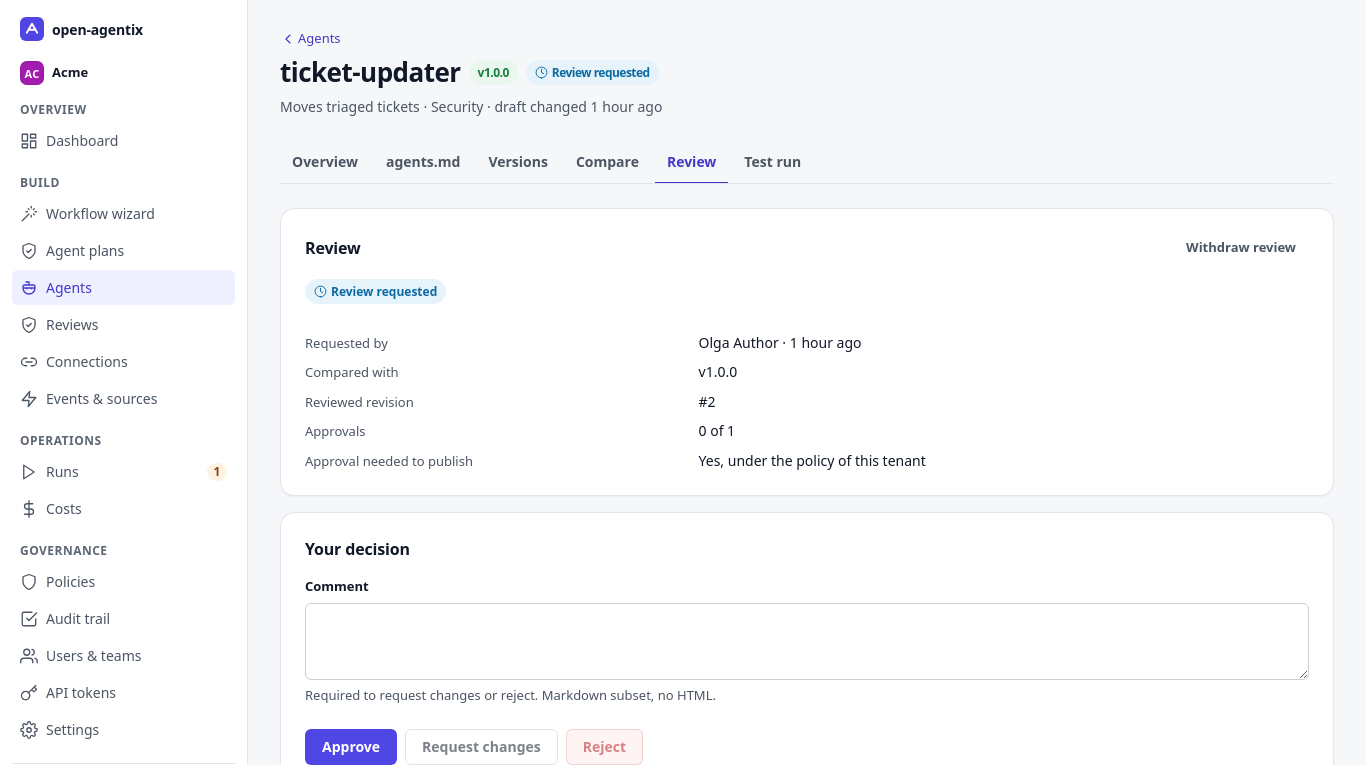
Test: the decision bar › tells the reviewer to reload when the draft changed under them
Click the button "Approve" at [351, 747], box [305,729,397,764]
(page scrolled)
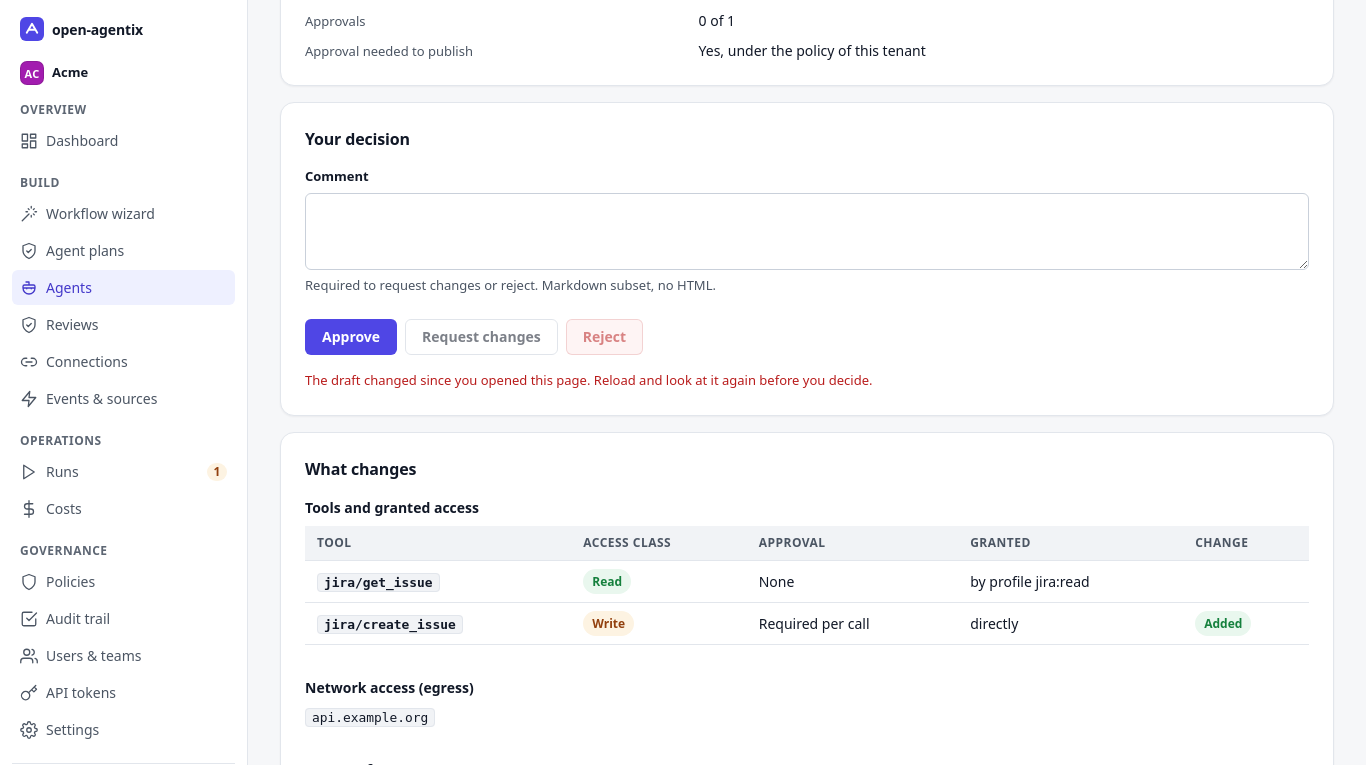
Check: the message shows "draft changed since you opened this page", box [305,371,872,389]
